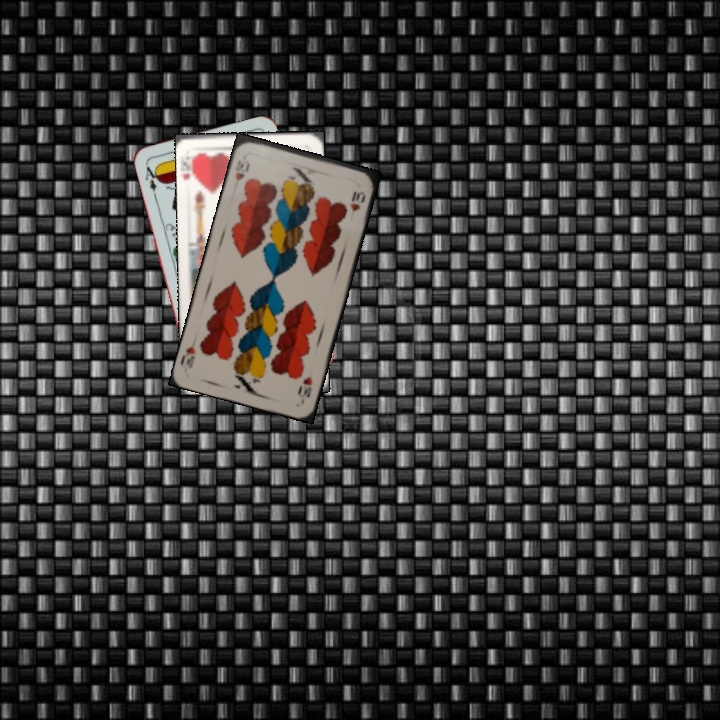EA: (141, 160, 162, 200)
H10: (231, 150, 252, 183), (294, 372, 315, 404)
HK: (179, 152, 199, 182)
